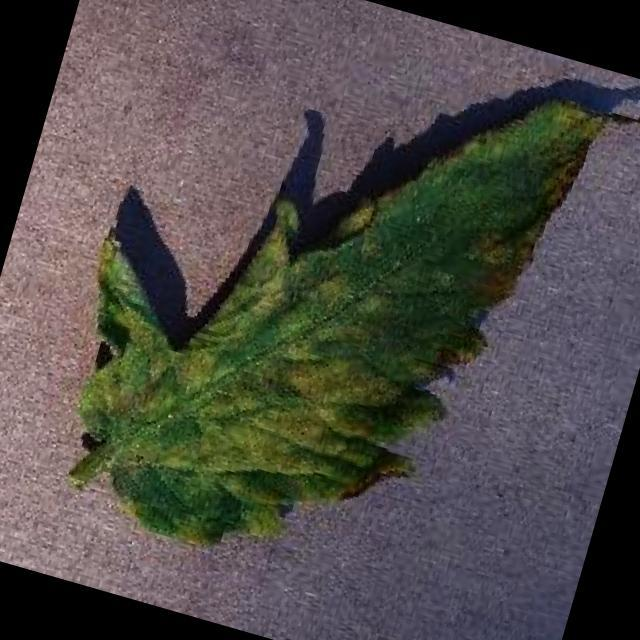Tomato mold leaf: (28, 0, 610, 623)
